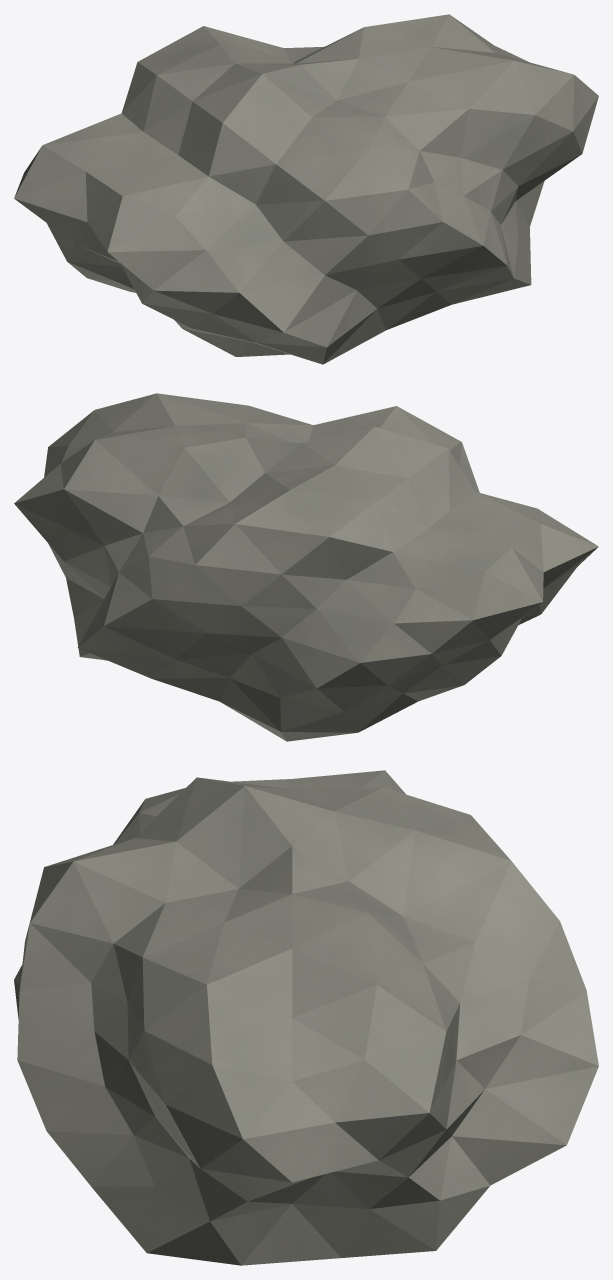
The model's file is GF2_Boulder_A.fbx.
3 views of the same model, one above another, from view 1: azimuth 30°, elevation 25°; view 2: azimuth 150°, elevation 25°; view 3: azimuth 270°, elevation 25° (orthographic). The views are drawn at different scales.
Parts seen in each view (by area): view 1: GF2_Boulder_A.001; view 2: GF2_Boulder_A.001; view 3: GF2_Boulder_A.001.
Boxes of the visible parts, bbox=[...] form: GF2_Boulder_A.001: bbox=[14, 14, 598, 364]; GF2_Boulder_A.001: bbox=[14, 393, 598, 741]; GF2_Boulder_A.001: bbox=[14, 770, 598, 1265].
Bounding box in the file's own units: 8.14 × 4.14 × 5.72.
1 material, 1 textured.
